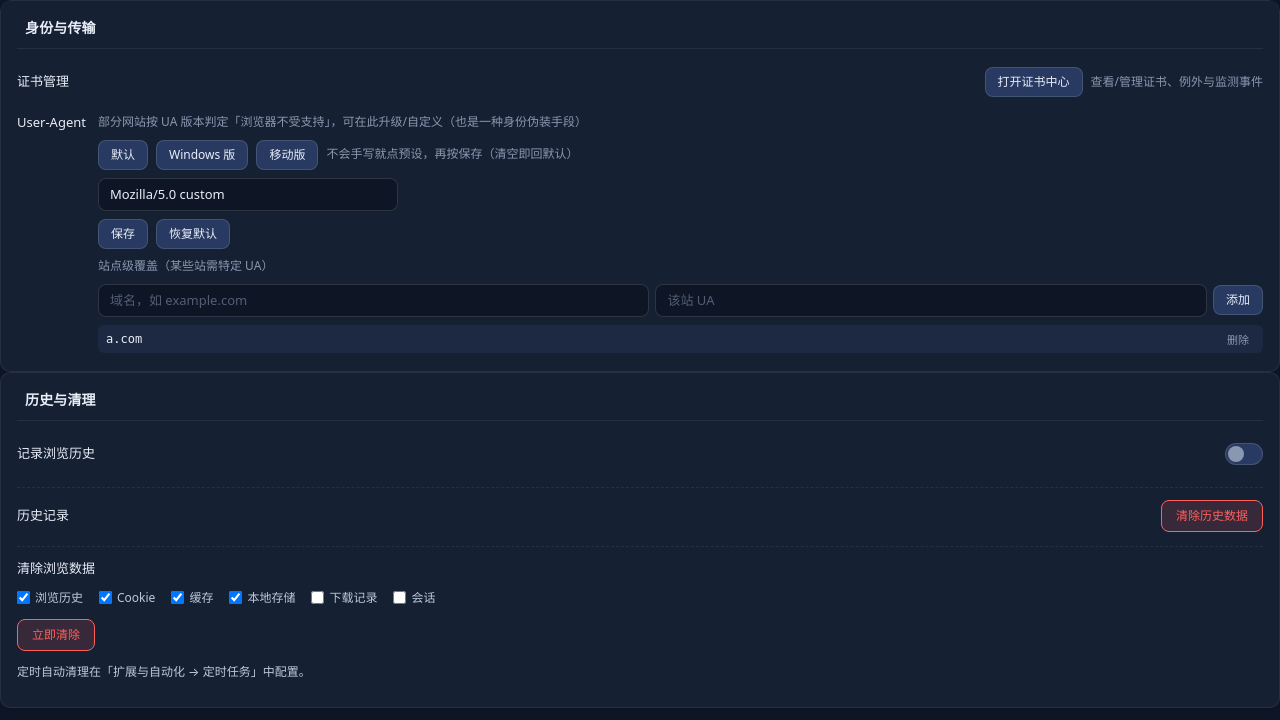
Test: PrivacyDataCard · User-Agent 管理 › 预设按钮：Windows/移动版填入输入框；默认预设回填 config.default
Click the button with class "mini-btn" showing "Windows 版": (202,155) [156, 140, 248, 170]
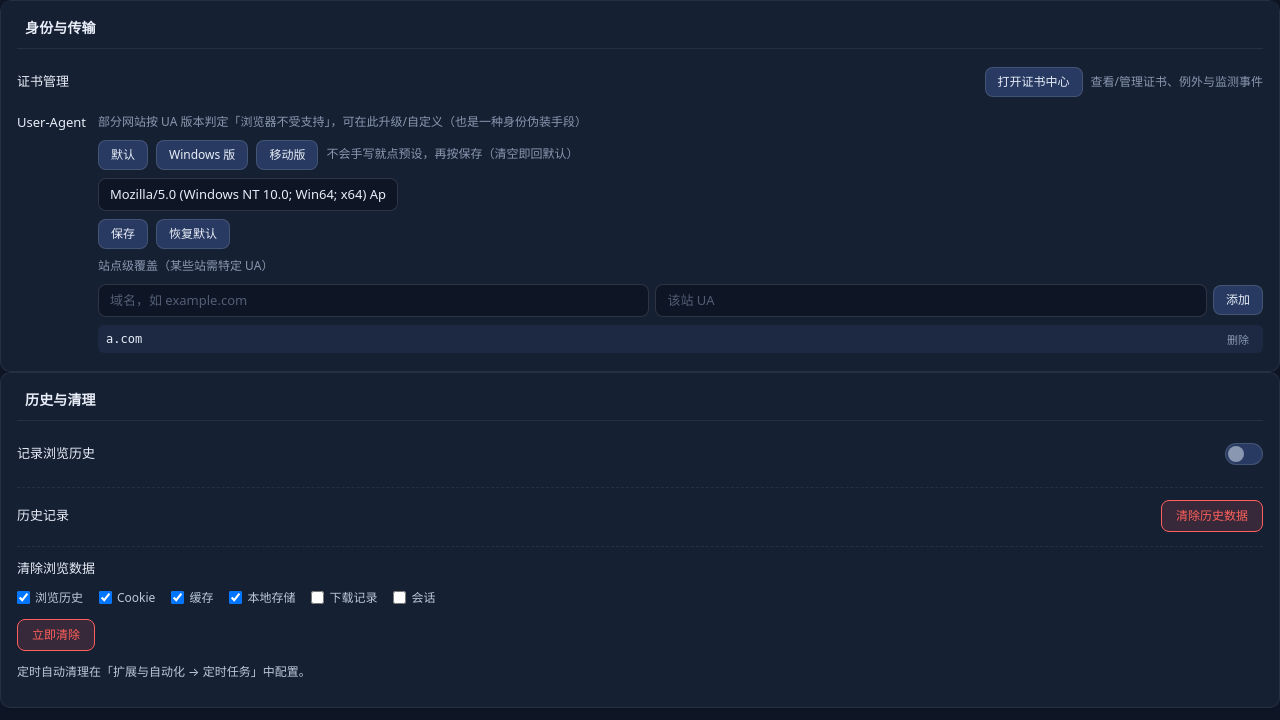
Click the button with class "mini-btn" showing "移动版": (287,155) [256, 140, 318, 170]
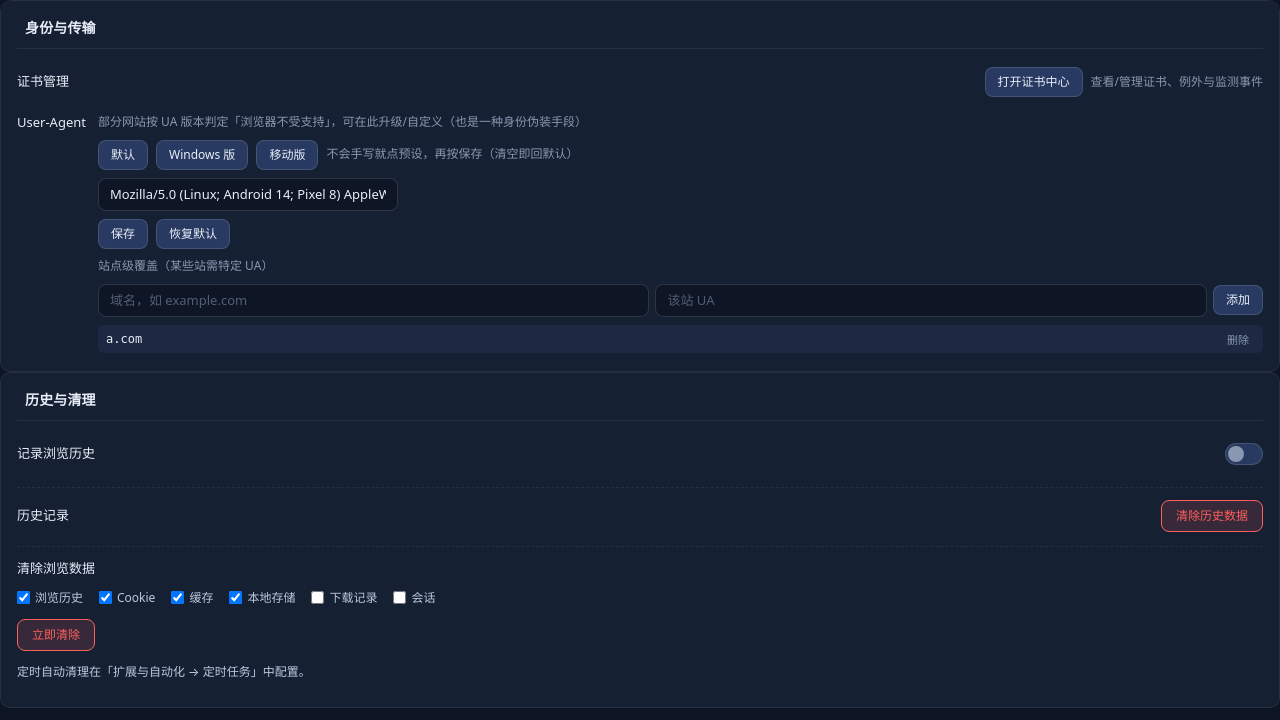
Click the button with class "mini-btn" showing "默认": (123,155) [98, 140, 148, 170]
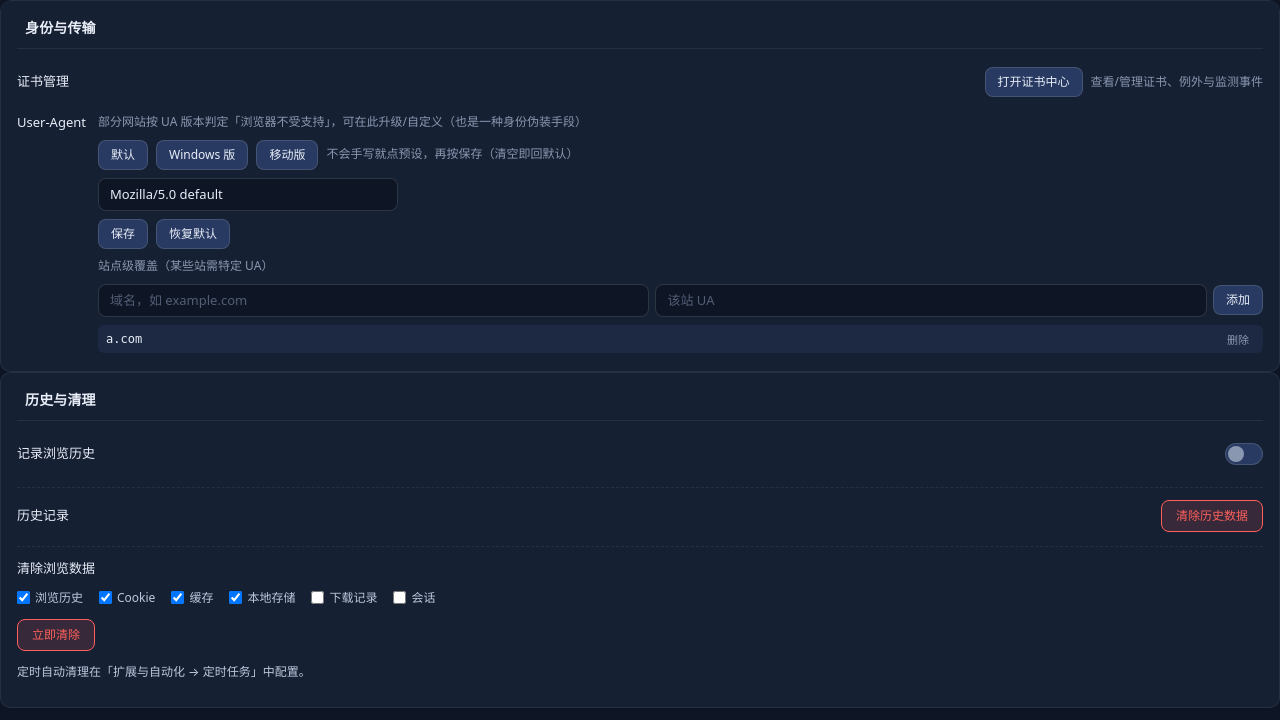
Now the field with class "ua-input" holds "Mozilla/5.0 default", box [98, 178, 398, 211]
